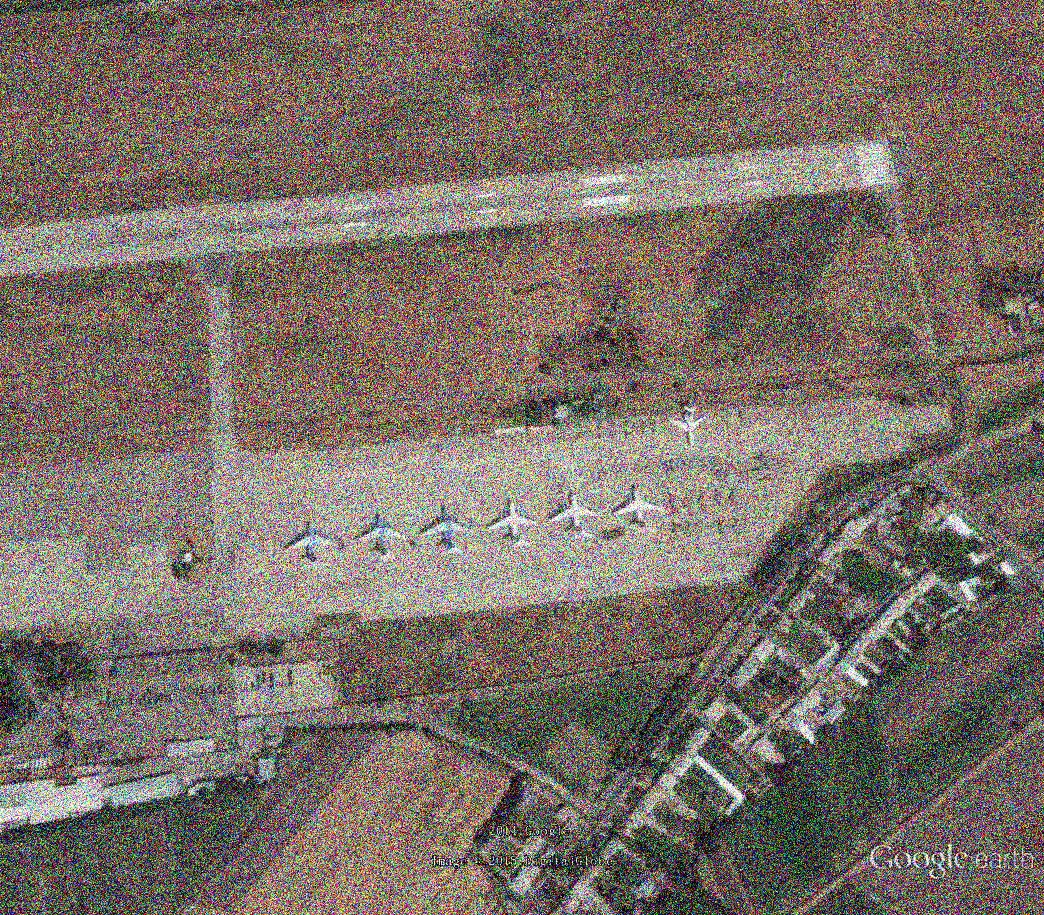aircraft: (348, 510, 412, 568), (546, 489, 609, 547), (414, 505, 481, 559), (609, 486, 673, 541), (483, 498, 543, 555), (285, 519, 339, 571), (663, 400, 711, 454)
